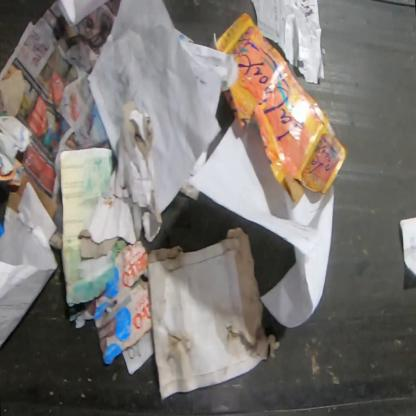cardboard: (208, 10, 349, 205), (147, 226, 281, 401), (77, 98, 164, 261), (74, 239, 152, 366), (5, 171, 60, 220), (0, 156, 25, 188)
